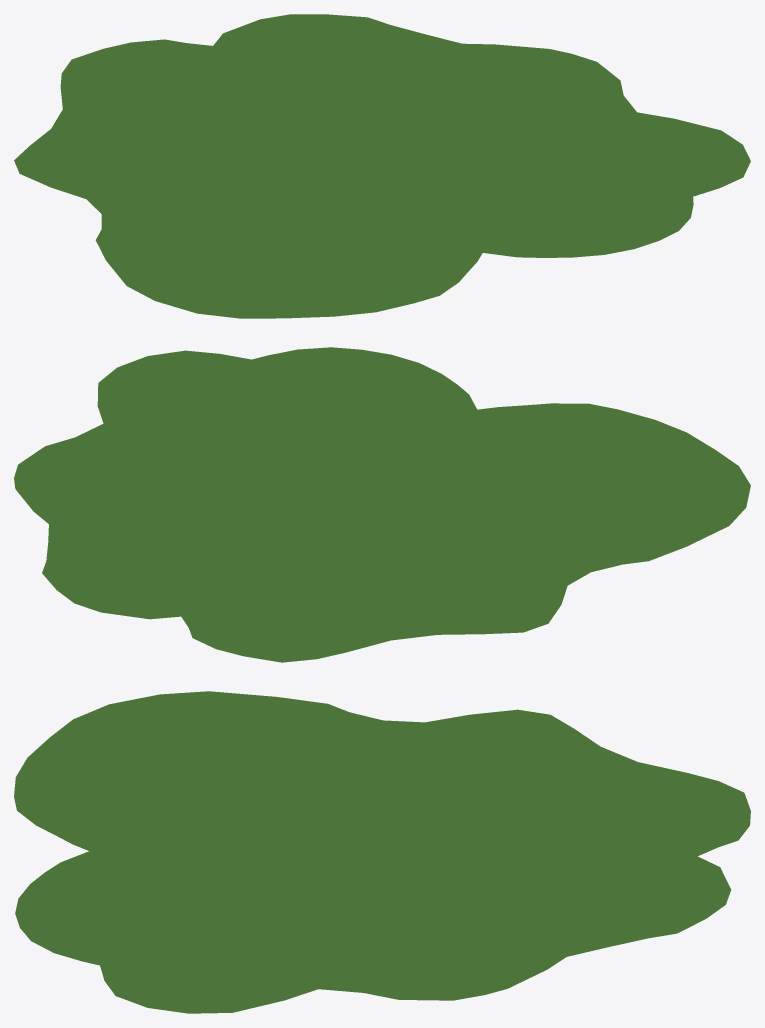
Rendered from plant_water_lily_pad_B.fbx.
3 renders of one model, top to bottom at view 1: azimuth 30°, elevation 25°; view 2: azimuth 150°, elevation 25°; view 3: azimuth 270°, elevation 25°, orthographic. The views are drawn at different scales.
Visible parts, largest first — view 1: plant_water_lily_pad_B; view 2: plant_water_lily_pad_B; view 3: plant_water_lily_pad_B.
Boxes of the visible parts, x1,y1,x2,y2 form: plant_water_lily_pad_B: (14, 14, 750, 318); plant_water_lily_pad_B: (14, 347, 750, 662); plant_water_lily_pad_B: (14, 691, 750, 1013).
Bounding box in the file's own units: 30.83 × 0.0244 × 29.78.
